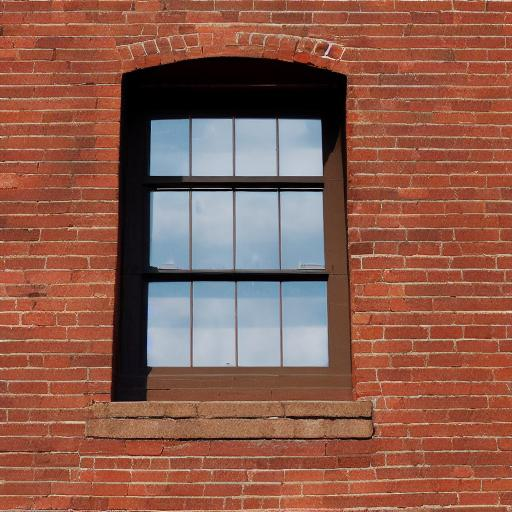Window: (84, 34, 378, 438)
